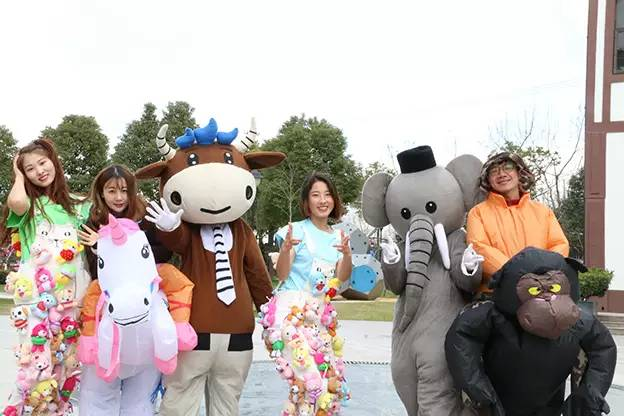handsup: (8, 135, 100, 405), (263, 169, 367, 405)
other: (74, 156, 192, 385)
